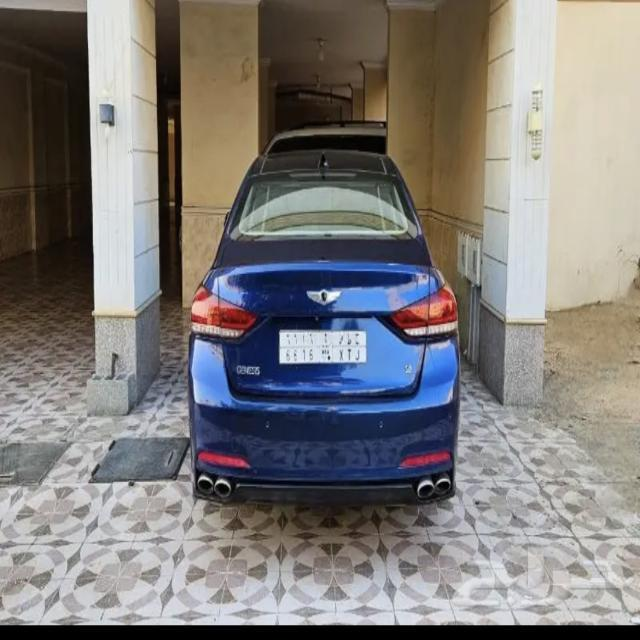license_plate: (278, 326, 368, 364)
